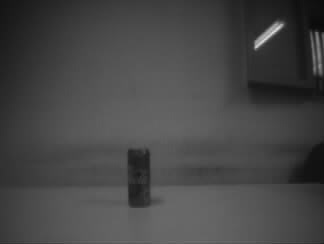Tin can: (126, 146, 151, 209)
